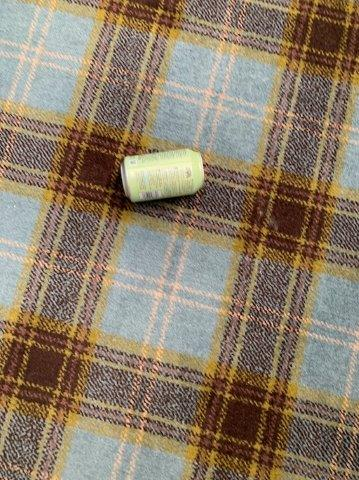kaleng: (121, 149, 204, 202)
